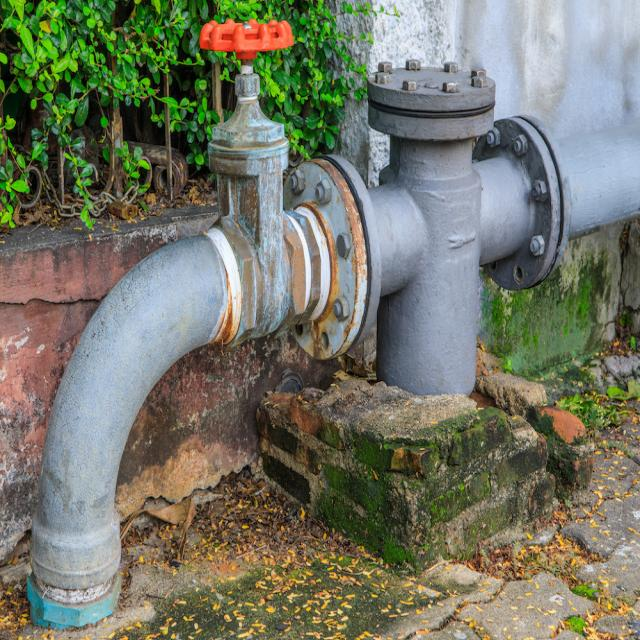Wheel Handle Valve Threaded: (202, 22, 294, 342)
